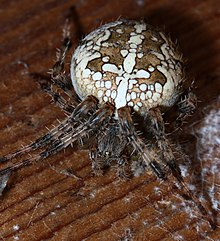spider: (2, 12, 212, 215)
